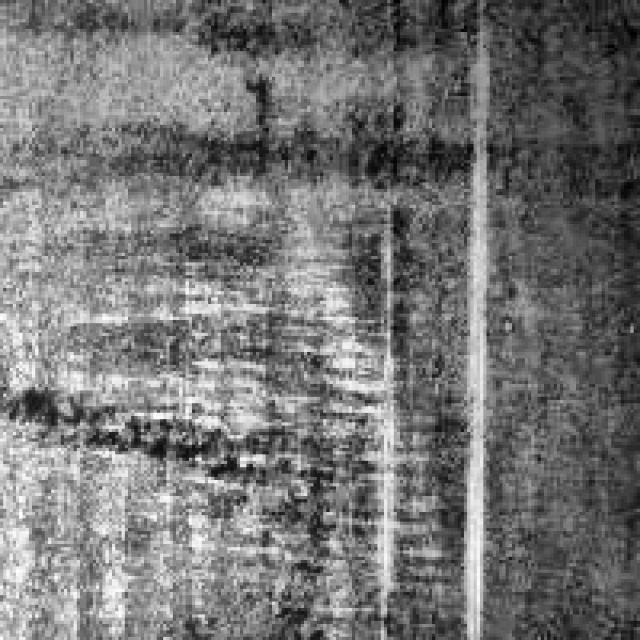Inclusion: (452, 58, 486, 624)
